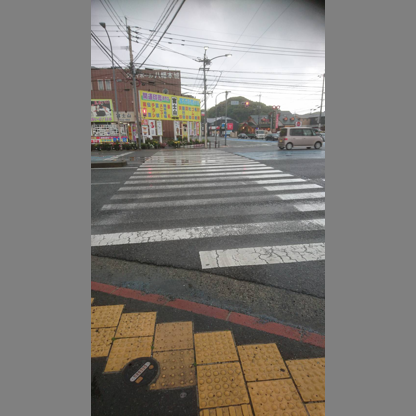brailleblock: (259, 360, 324, 416), (194, 334, 233, 413), (234, 346, 277, 412), (109, 310, 156, 357), (91, 306, 118, 357), (150, 325, 193, 356)
crosswalk: (118, 187, 325, 271), (129, 175, 308, 245), (135, 166, 270, 204)
signal: (142, 107, 146, 117)
